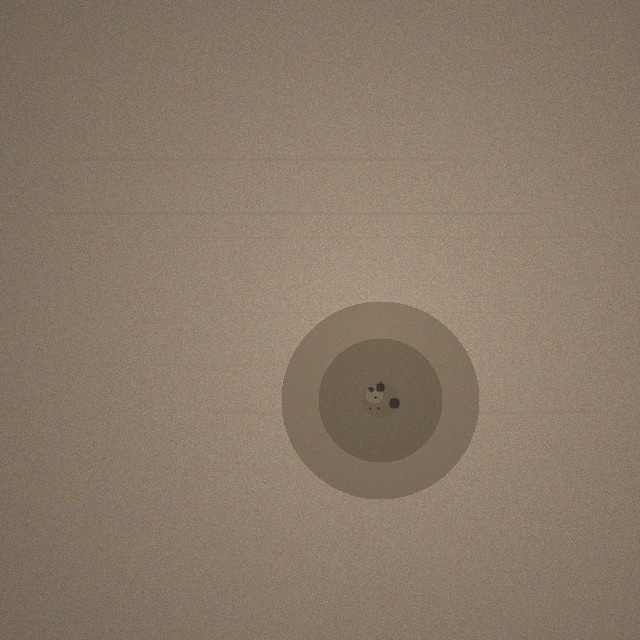shrinkage: (281, 301, 479, 499)
